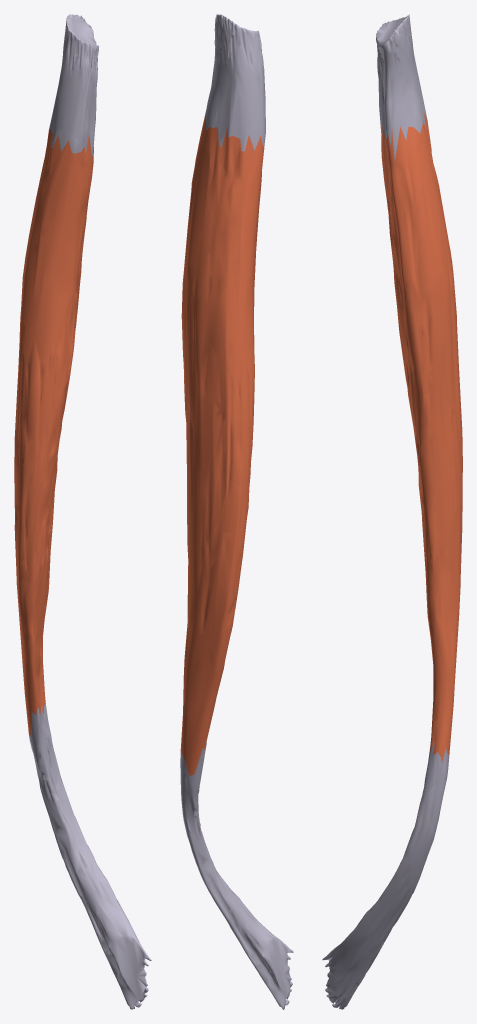
The model's file is Semitendinosus_muscle.r_Generated_Mesh_From_X3D.223.glb.
3 views of the same model, side by side, from view 1: azimuth 90°, elevation 25°; view 2: azimuth 150°, elevation 25°; view 3: azimuth 270°, elevation 25° (orthographic). The views are drawn at different scales.
Parts seen in each view (by area): view 1: Semitendinosus_muscle.r_Generated_Mesh_From_X3D.223; view 2: Semitendinosus_muscle.r_Generated_Mesh_From_X3D.223; view 3: Semitendinosus_muscle.r_Generated_Mesh_From_X3D.223.
Part boxes in pixels (x1,y1,x2,y2): Semitendinosus_muscle.r_Generated_Mesh_From_X3D.223: (14, 14, 151, 1009); Semitendinosus_muscle.r_Generated_Mesh_From_X3D.223: (180, 14, 293, 1009); Semitendinosus_muscle.r_Generated_Mesh_From_X3D.223: (322, 14, 462, 1009).
Bounding box in the file's own units: 0.036 × 0.46 × 0.0583.
